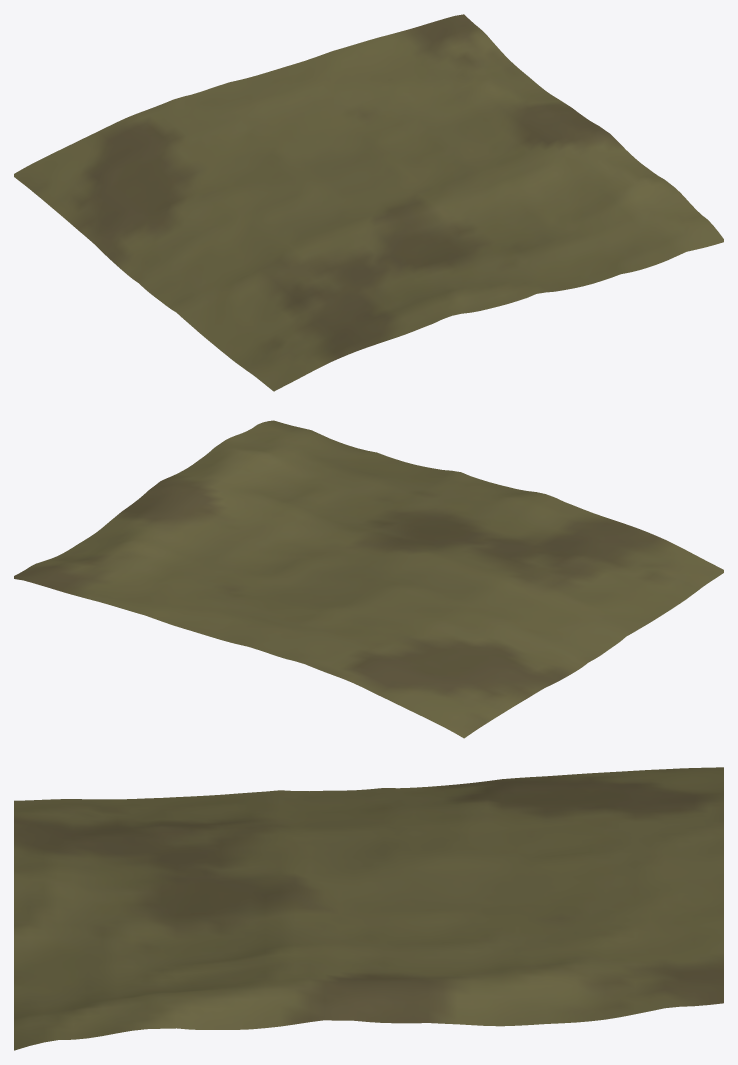
File: land_m_10_07.glb
3 renders of one model, top to bottom at view 1: azimuth 30°, elevation 25°; view 2: azimuth 150°, elevation 25°; view 3: azimuth 270°, elevation 25°, orthographic. The views are drawn at different scales.
Visible parts, largest first — view 1: land_m_10_07; view 2: land_m_10_07; view 3: land_m_10_07.
Part boxes in pixels (left/top/right/bottom): land_m_10_07: left=14, top=14, right=723, bottom=391; land_m_10_07: left=14, top=420, right=723, bottom=738; land_m_10_07: left=14, top=767, right=723, bottom=1050.
Size of the model in its own units: 960 by 159 by 960.
